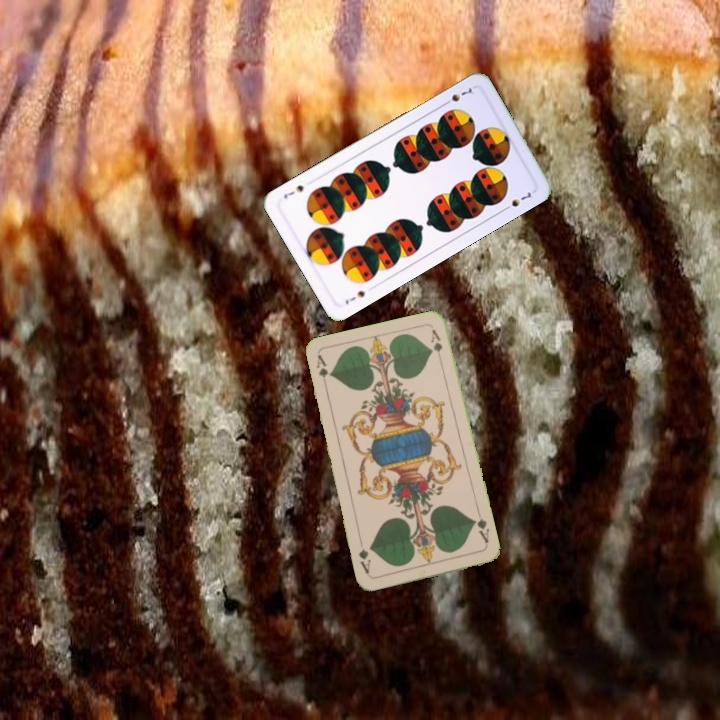GA: (469, 508, 492, 548), (312, 351, 331, 380)
S7: (439, 84, 475, 108), (341, 286, 368, 307)
